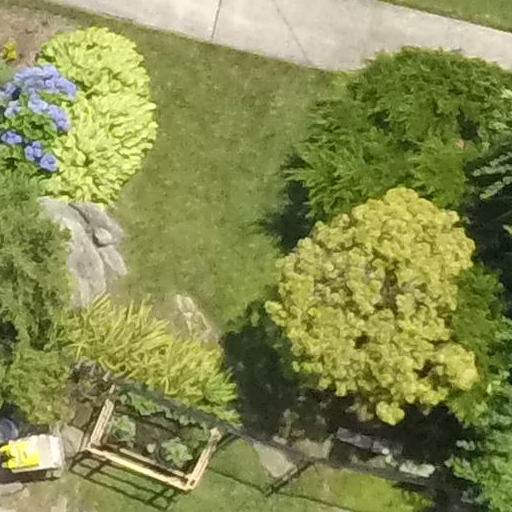pot: (150, 435, 187, 468)
